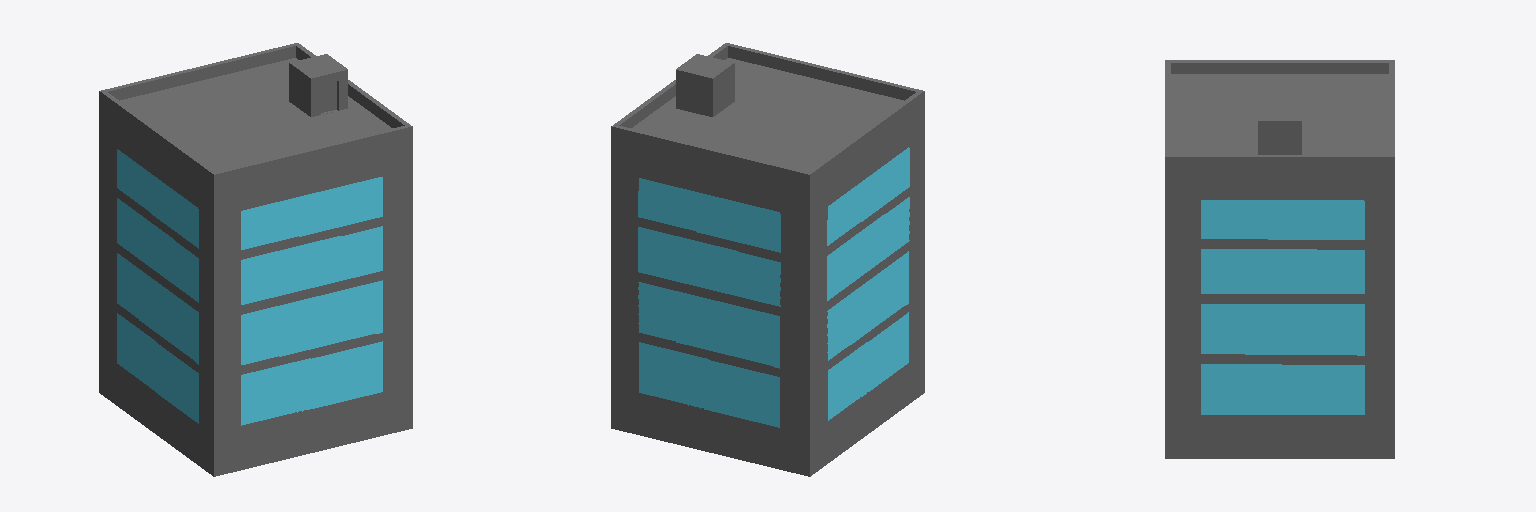
3 views of the same model, side by side, from view 1: azimuth 30°, elevation 25°; view 2: azimuth 150°, elevation 25°; view 3: azimuth 270°, elevation 25° (orthographic).
Parts seen in each view (by area): view 1: Cube.001; view 2: Cube.001; view 3: Cube.001.
Part boxes in pixels (x1,y1,x2,y2): Cube.001: (99, 43, 412, 476); Cube.001: (611, 43, 924, 476); Cube.001: (1165, 60, 1394, 458).
Bounding box in the file's own units: 10.61 × 17.82 × 10.61.
1 materials, 1 textured.